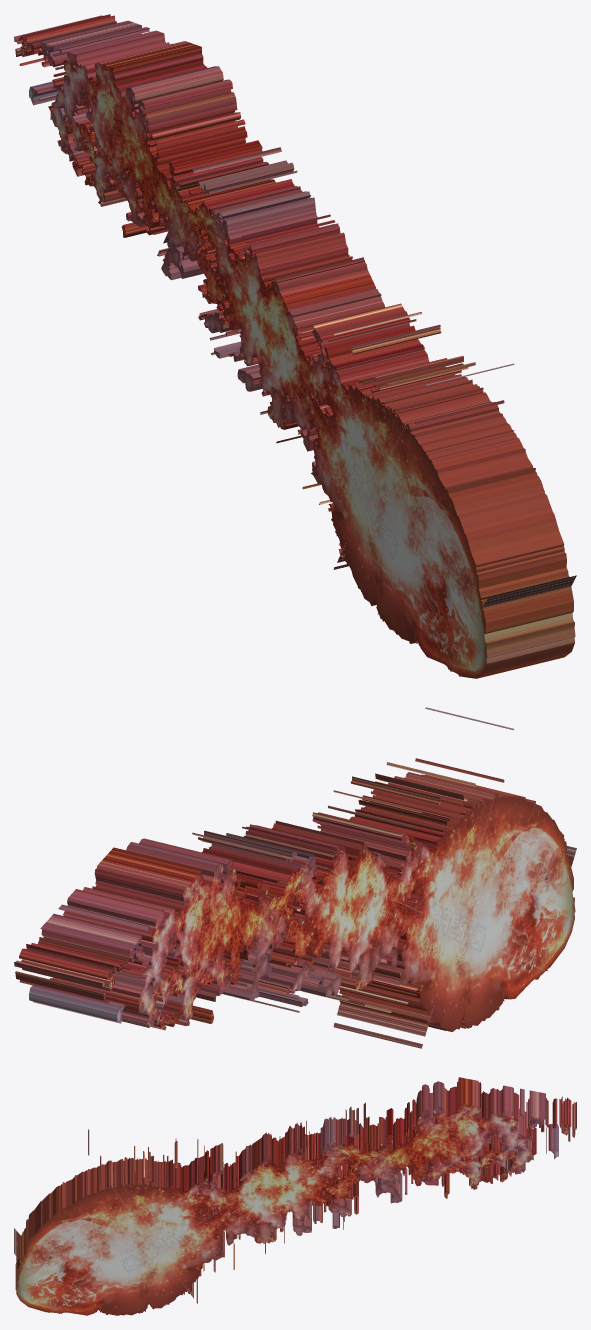
The model's file is meteor.gltf.
3 renders of one model, top to bottom at view 1: azimuth 30°, elevation 25°; view 2: azimuth 150°, elevation 25°; view 3: azimuth 270°, elevation 25°, orthographic. The views are drawn at different scales.
Bounding box in the file's own units: 0.0233 × 0.0906 × 0.217.
Materials: 1 (1 with a texture image).
